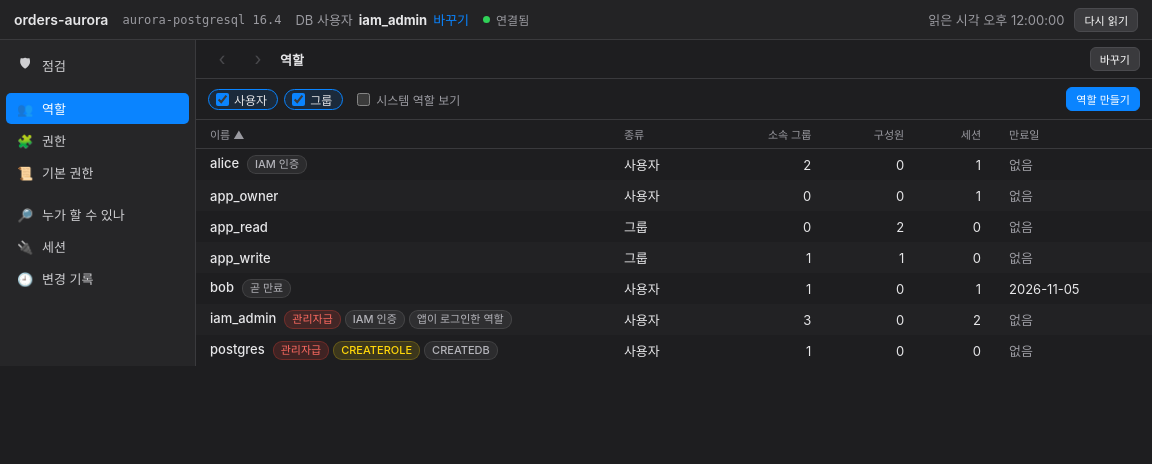
Test: the 바꾸기 toggle › goes off by itself when the login can no longer change, and stays off when it can again
The image size is (1152, 464).
Click the button "🧩 권한" at (98, 140), box [6,125,189,156]
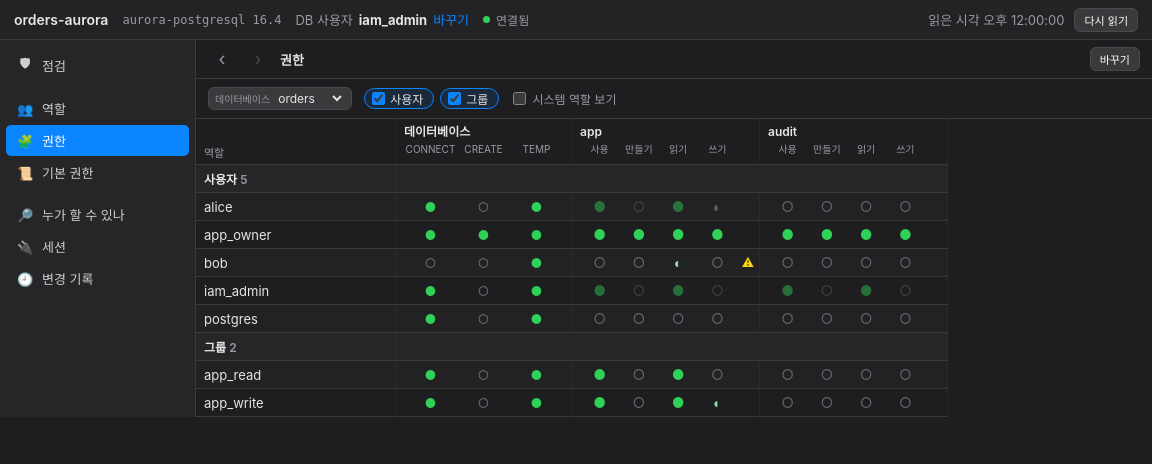
Click the 2nd button "바꾸기" at (1115, 59), box [1090,47,1140,71]
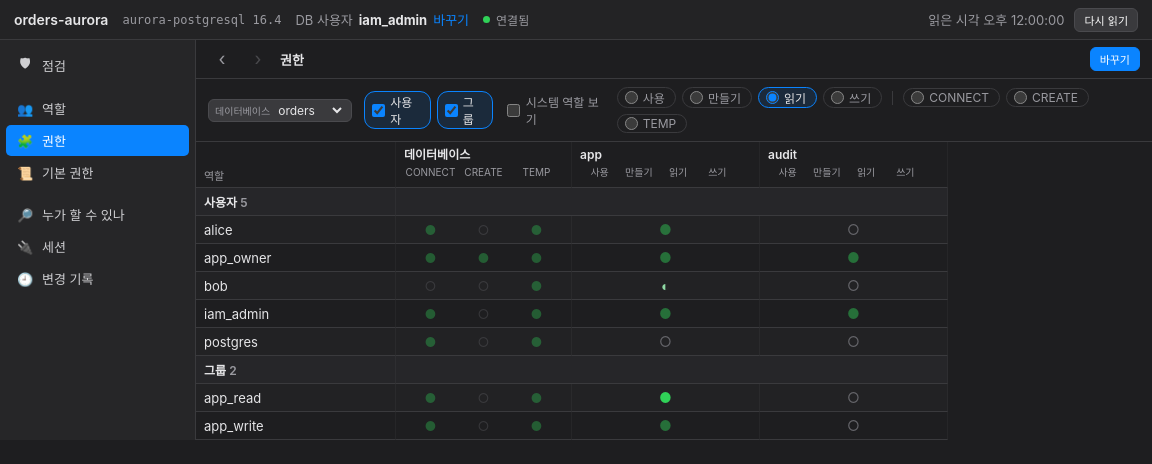
Result: the element named "칠할 권한" is shown at [617,87,1140,133]
Click the button "다시 읽기" at (1106, 20), box [1074,8,1138,32]
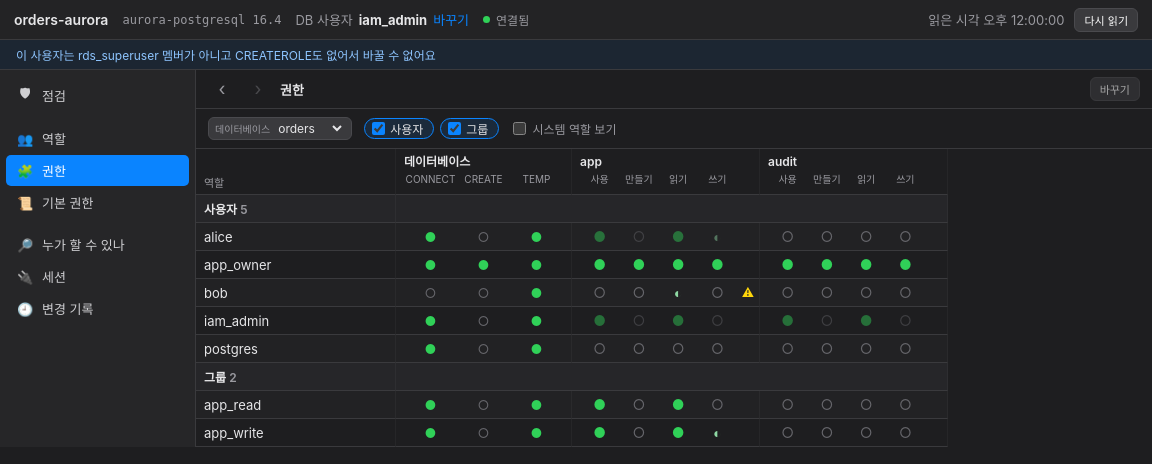
Result: the 2nd button "바꾸기" is disabled at [1090,77,1140,101]
Click the button "다시 읽기" at (1106, 20), box [1074,8,1138,32]
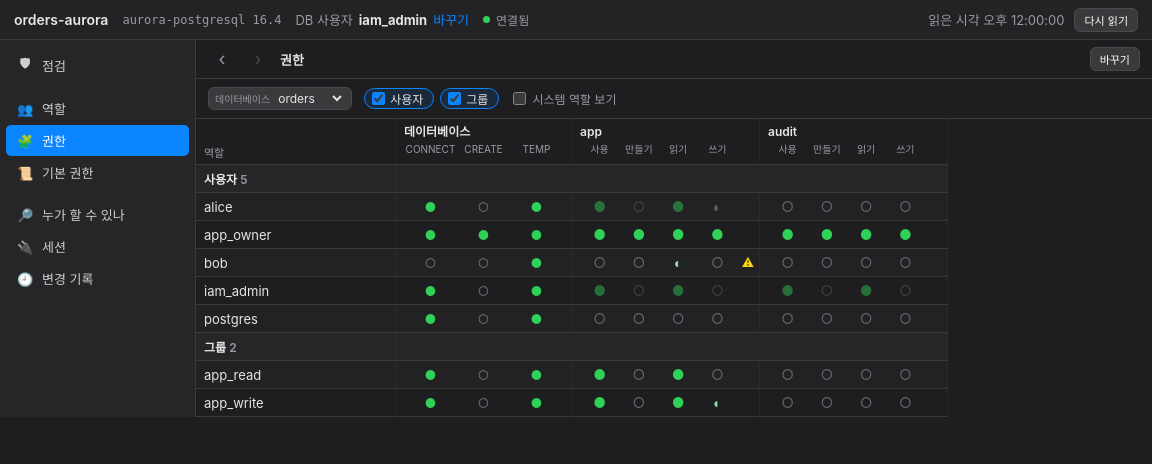
Result: the 2nd button "바꾸기" is enabled at [1090,47,1140,71]
